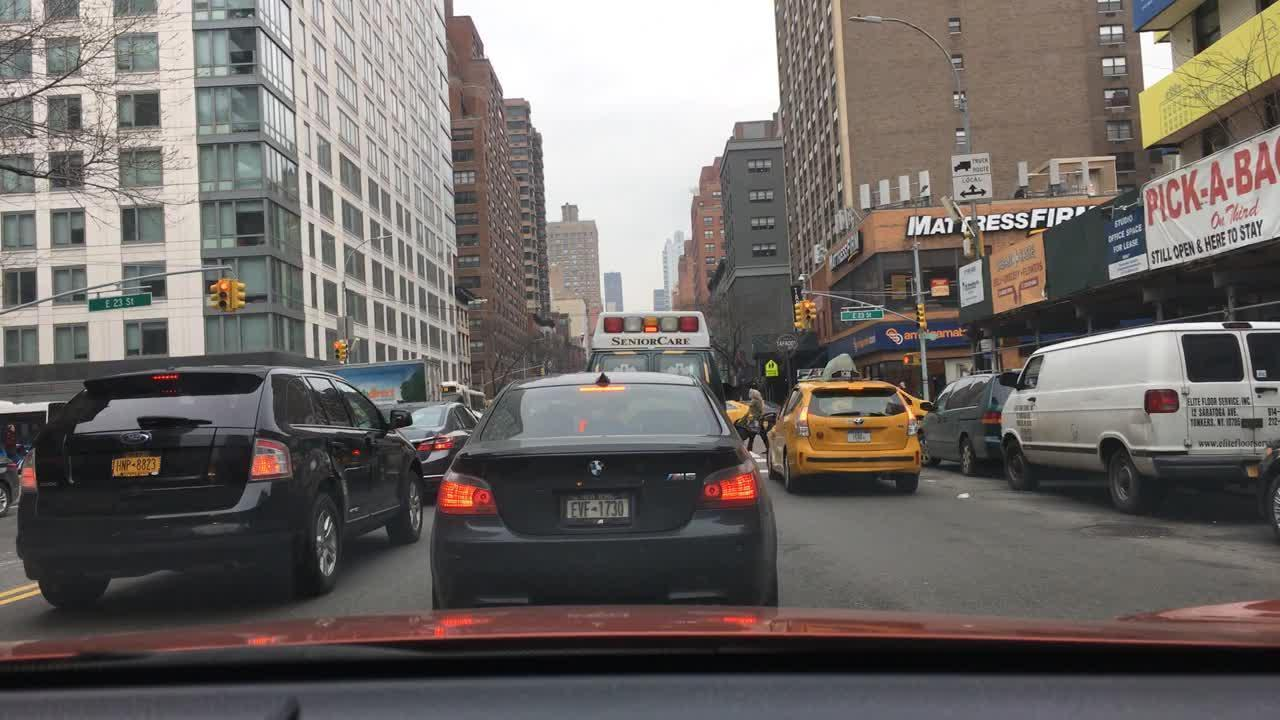bmw: (586, 455, 607, 479)
